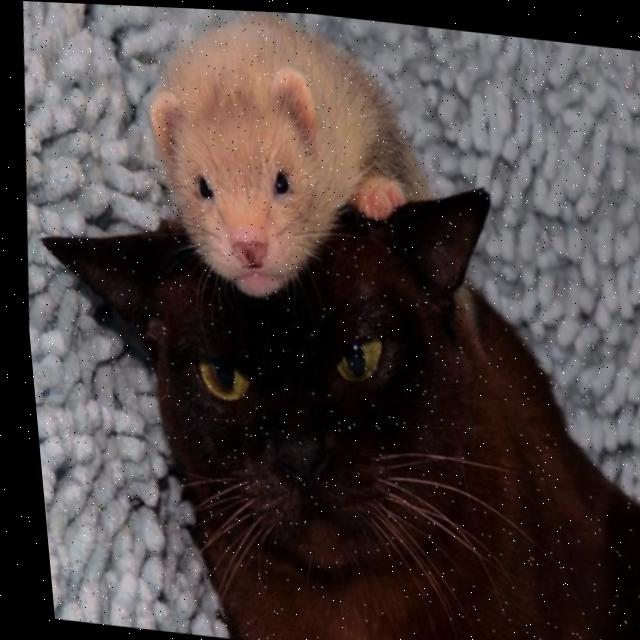Cats: (8, 111, 640, 640)
